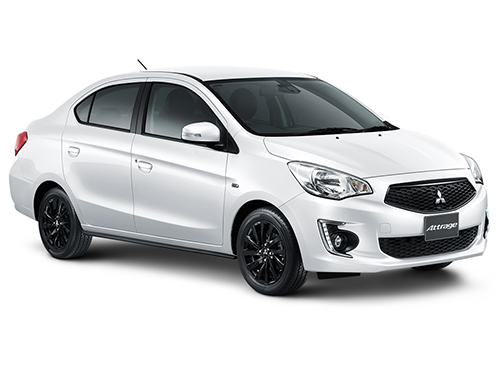sedan: (6, 62, 491, 298)
